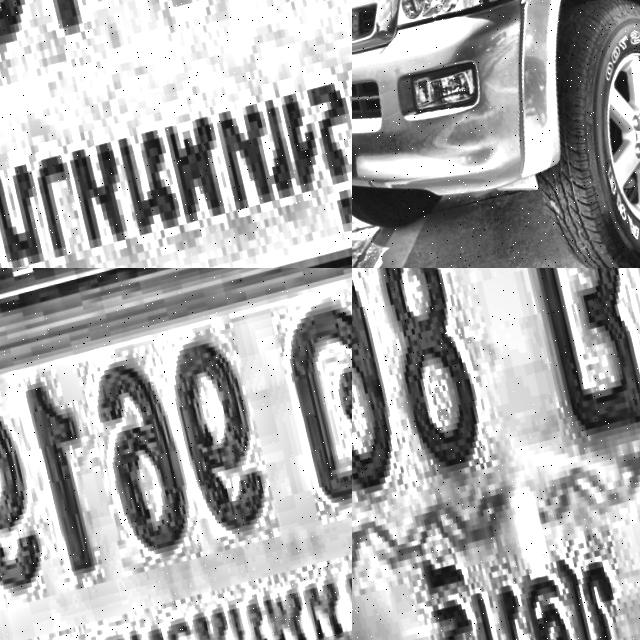license-plate: (0, 268, 352, 640), (352, 268, 640, 640), (0, 0, 352, 268)
